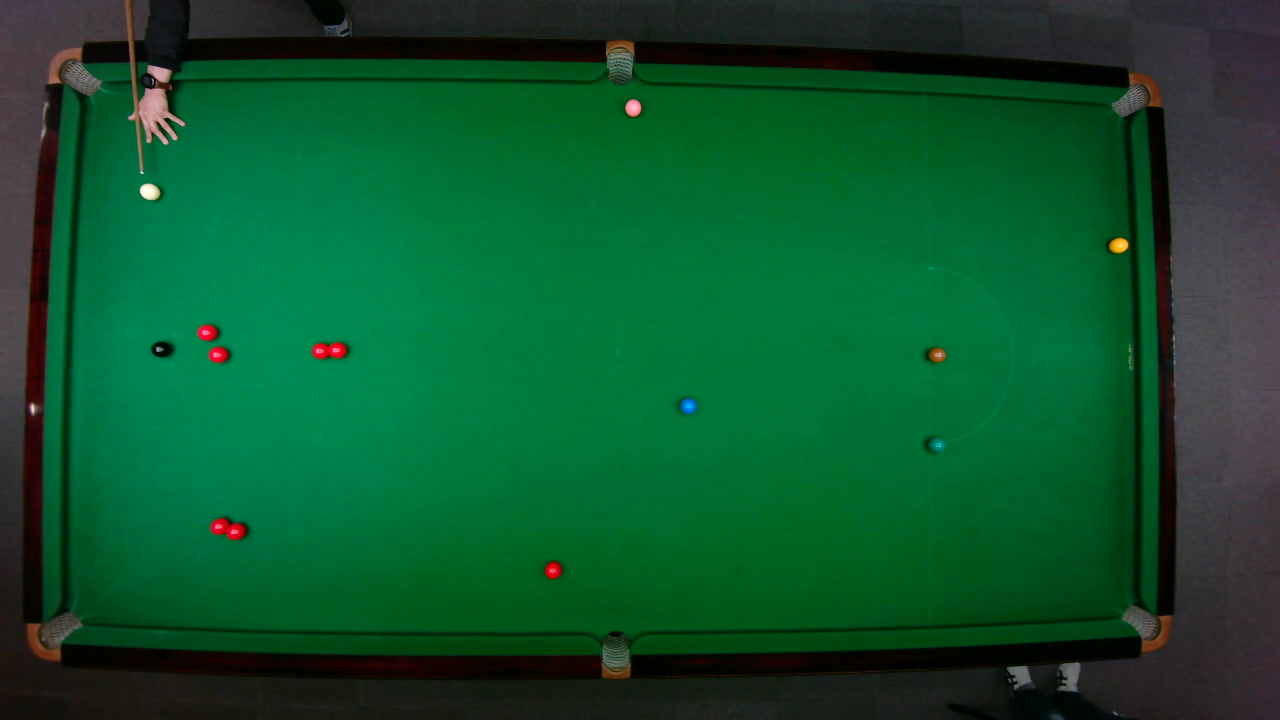bag: (25, 609, 83, 661), (45, 46, 101, 96), (1119, 603, 1171, 652), (1108, 71, 1161, 117), (600, 629, 629, 680), (605, 38, 633, 85)
black: (149, 339, 171, 357)
blue: (678, 396, 697, 414)
brown: (926, 346, 946, 362)
cue: (125, 2, 147, 177)
green: (926, 435, 946, 453)
pink: (623, 97, 642, 117)
red: (224, 520, 247, 540), (208, 516, 230, 536), (195, 322, 218, 341), (324, 340, 347, 359), (542, 559, 562, 579), (207, 345, 229, 363), (310, 341, 330, 359)
white: (137, 181, 161, 200)
yellow: (1107, 236, 1129, 253)
zone: (926, 266, 1013, 444)
